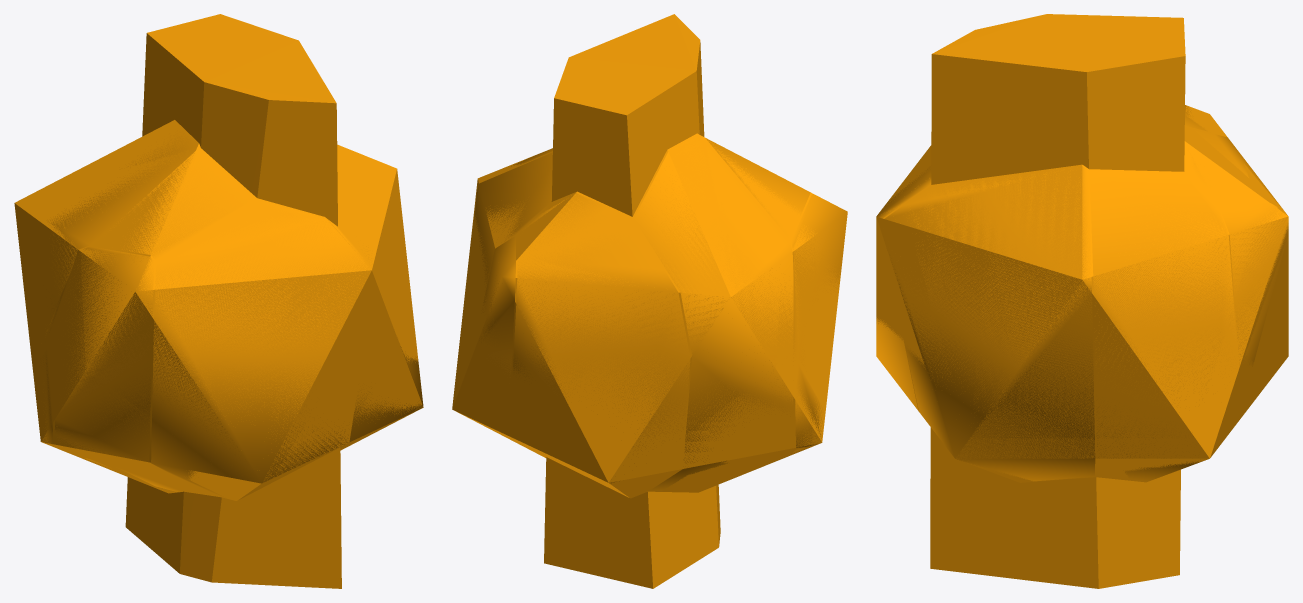
Rendered from sphereSmall.fbx.
3 views of the same model, side by side, from view 1: azimuth 30°, elevation 25°; view 2: azimuth 150°, elevation 25°; view 3: azimuth 270°, elevation 25° (orthographic). The views are drawn at different scales.
Parts seen in each view (by area): view 1: SphereGemSmall, SphereGemSmall_cell.008, SphereGemSmall_cell.006, SphereGemSmall_cell.007, SphereGemSmall_cell.001, SphereGemSmall_cell.002, SphereGemSmall_cell, SphereGemSmall_cell.010; view 2: SphereGemSmall, SphereGemSmall_cell.008, SphereGemSmall_cell.002, SphereGemSmall_cell.004, SphereGemSmall_cell.003, SphereGemSmall_cell.007, SphereGemSmall_cell.009, SphereGemSmall_cell.001, SphereGemSmall_cell.005; view 3: SphereGemSmall, SphereGemSmall_cell.008, SphereGemSmall_cell, SphereGemSmall_cell.003, SphereGemSmall_cell.009, SphereGemSmall_cell.006, SphereGemSmall_cell.004.
Part boxes in pixels (left/top/right/bottom): SphereGemSmall: left=14, top=120, right=423, bottom=500; SphereGemSmall_cell.008: left=125, top=14, right=341, bottom=588; SphereGemSmall_cell.006: left=151, top=199, right=372, bottom=498; SphereGemSmall_cell.007: left=54, top=246, right=154, bottom=462; SphereGemSmall_cell.001: left=109, top=150, right=254, bottom=260; SphereGemSmall_cell.002: left=45, top=130, right=197, bottom=491; SphereGemSmall_cell: left=340, top=239, right=423, bottom=450; SphereGemSmall_cell.010: left=103, top=462, right=213, bottom=495; SphereGemSmall: left=452, top=133, right=840, bottom=498; SphereGemSmall_cell.008: left=544, top=14, right=720, bottom=588; SphereGemSmall_cell.002: left=634, top=134, right=796, bottom=491; SphereGemSmall_cell.004: left=513, top=193, right=690, bottom=491; SphereGemSmall_cell.003: left=471, top=152, right=552, bottom=428; SphereGemSmall_cell.007: left=791, top=193, right=847, bottom=452; SphereGemSmall_cell.009: left=479, top=235, right=515, bottom=377; SphereGemSmall_cell.001: left=705, top=138, right=810, bottom=239; SphereGemSmall_cell.005: left=795, top=364, right=823, bottom=447; SphereGemSmall: left=876, top=105, right=1288, bottom=482; SphereGemSmall_cell.008: left=930, top=14, right=1185, bottom=588; SphereGemSmall_cell: left=884, top=166, right=1095, bottom=481; SphereGemSmall_cell.003: left=1089, top=171, right=1236, bottom=481; SphereGemSmall_cell.009: left=1220, top=202, right=1288, bottom=366; SphereGemSmall_cell.006: left=876, top=166, right=931, bottom=410; SphereGemSmall_cell.004: left=1191, top=128, right=1288, bottom=261.
Bounding box in the file's own units: 53.67 × 70.04 × 51.05.
